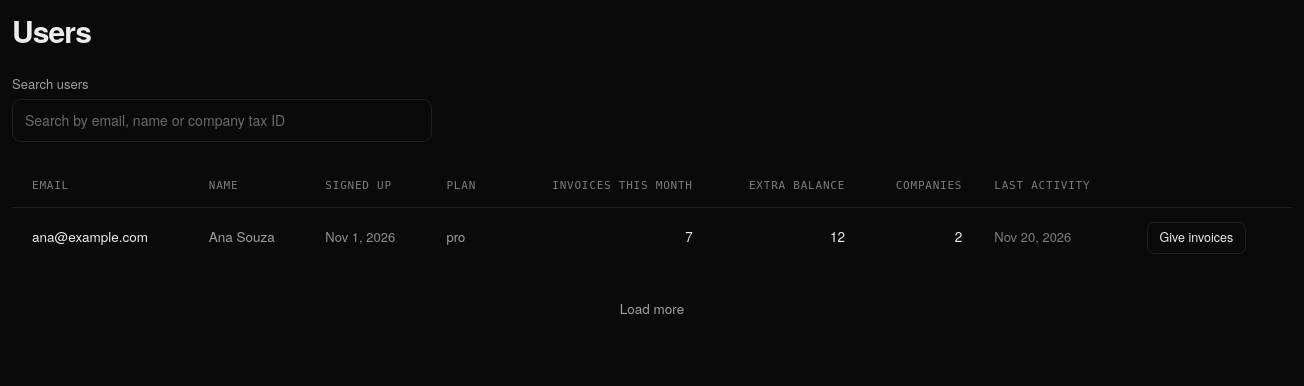
it: Admin users page › clears the old rows and cursor when a new search fails
This screenshot has width=1304, height=386.
Type "zzz" into the search field labelled "Search users" at (222, 120), box [12,99,432,142]
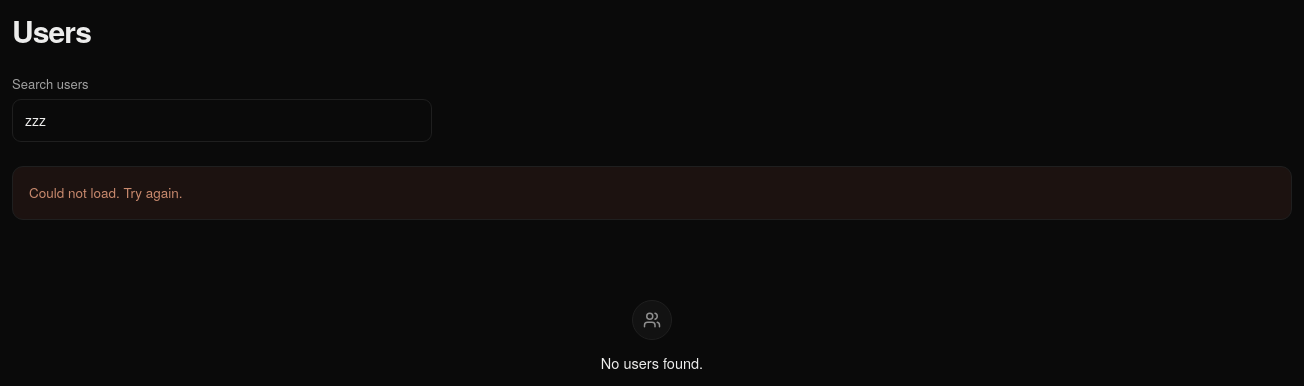
Expected: the message "Could not load. Try again." is shown, [12,166,1292,220]
Expected: the link "ana@example.com" is gone
Expected: the button "Load more" is gone
